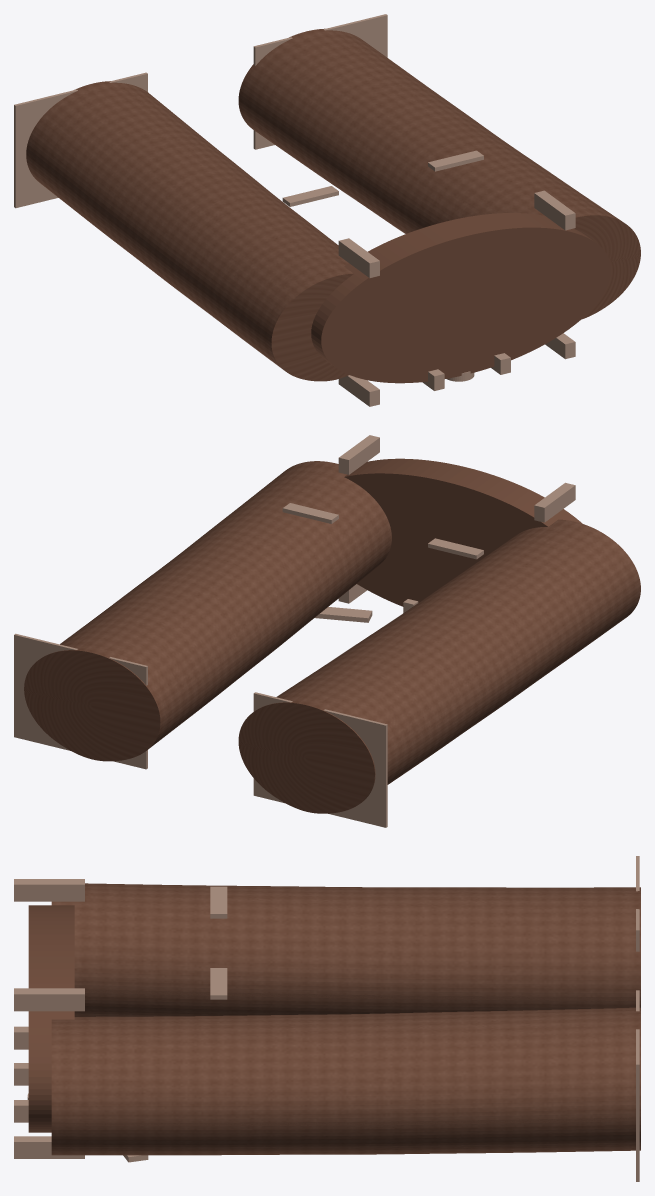
File: calca-reta.gltf
3 renders of one model, top to bottom at view 1: azimuth 30°, elevation 25°; view 2: azimuth 150°, elevation 25°; view 3: azimuth 270°, elevation 25°, orthographic. The views are drawn at different scales.
Visible parts, largest first — view 1: leg_L, leg_R, waistband, hem_-1, hem_1, loop_back_0.62, loop_back_-0.62, loop_front_-0.62, rear_welt_-1, rear_welt_1; view 2: leg_L, leg_R, waistband, hem_-1, hem_1, loop_back_-0.62, loop_back_0.62, front_pocket_1, rear_welt_1, rear_welt_-1; view 3: leg_R, leg_L, waistband, loop_back_0.62, loop_back_-0.62, loop_front_0.62, hem_1, rear_welt_-1, rear_welt_1.
Part boxes in pixels (<box>): leg_L: <box>26,81,353,381</box>; leg_R: <box>238,28,640,319</box>; waistband: <box>311,213,611,383</box>; hem_-1: <box>14,72,147,208</box>; hem_1: <box>253,14,387,149</box>; loop_back_0.62: <box>534,190,575,230</box>; loop_back_-0.62: <box>338,238,379,277</box>; loop_front_-0.62: <box>338,375,379,406</box>; rear_welt_-1: <box>282,186,338,206</box>; rear_welt_1: <box>428,150,483,171</box>; leg_L: <box>238,519,640,813</box>; leg_R: <box>24,461,391,761</box>; waistband: <box>344,458,582,606</box>; hem_-1: <box>253,692,387,827</box>; hem_1: <box>14,633,147,769</box>; loop_back_-0.62: <box>534,482,575,522</box>; loop_back_0.62: <box>338,435,379,474</box>; front_pocket_1: <box>315,607,372,622</box>; rear_welt_1: <box>282,503,338,523</box>; rear_welt_-1: <box>428,538,483,559</box>; leg_R: <box>51,1007,640,1155</box>; leg_L: <box>51,883,640,1016</box>; waistband: <box>28,905,74,1132</box>; loop_back_0.62: <box>14,988,84,1011</box>; loop_back_-0.62: <box>14,879,84,901</box>; loop_front_0.62: <box>14,1136,84,1158</box>; hem_1: <box>636,990,639,1181</box>; rear_welt_-1: <box>210,886,227,918</box>; rear_welt_1: <box>210,968,227,999</box>.
Bounding box in the file's own units: 2.36 × 0.89 × 3.
2 materials, 1 textured.
